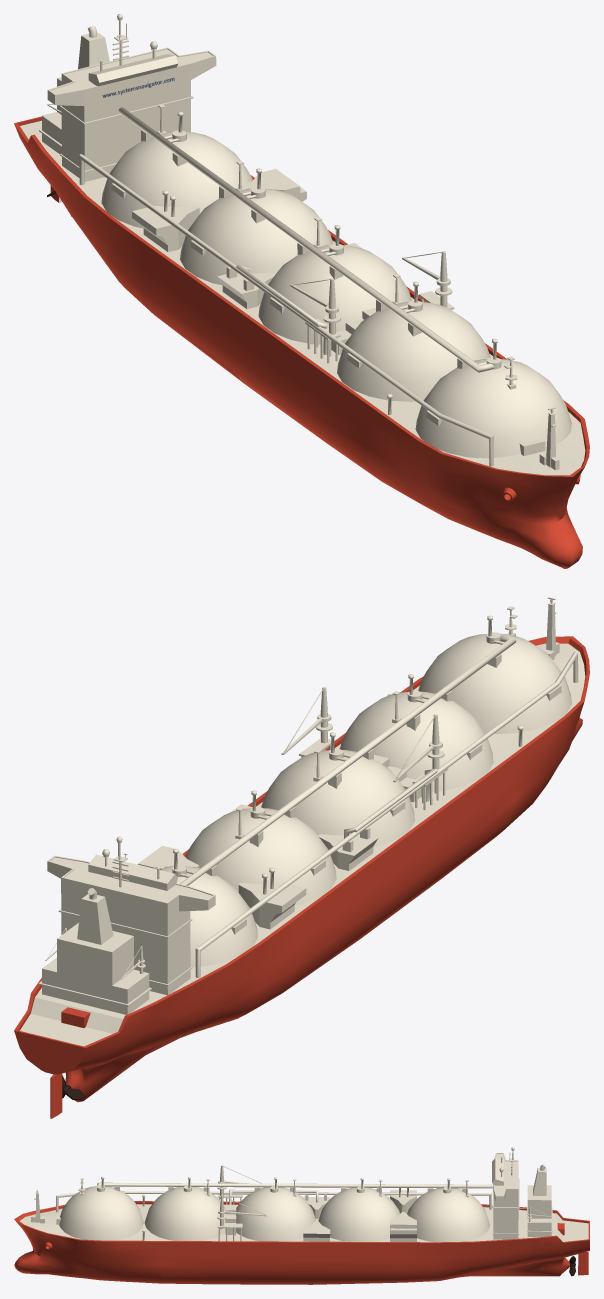
File: oiltanker.glb
3 renders of one model, top to bottom at view 1: azimuth 30°, elevation 25°; view 2: azimuth 150°, elevation 25°; view 3: azimuth 270°, elevation 25°, orthographic. The views are drawn at different scales.
Size of the model in its own units: 44.64 by 62.4 by 251.
